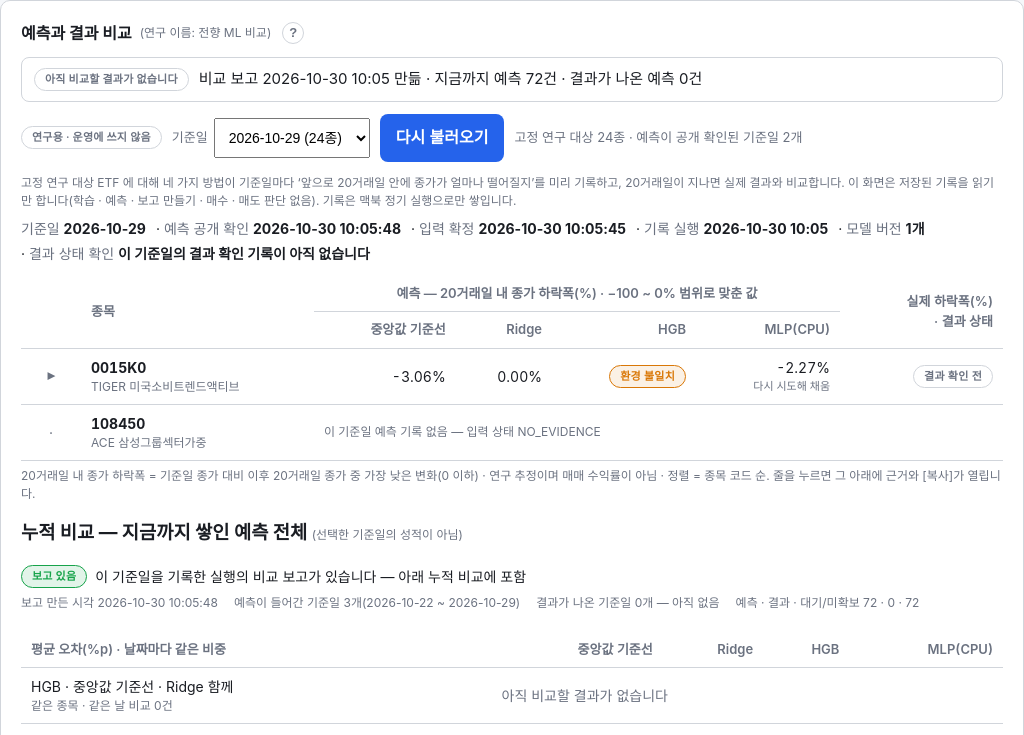
Scenario: ForwardComparisonCard › 기준일을 바꾸면 그 D 로 다시 조회
Select "2026-10-27 (24종)" in the dropdown. click: (292, 138)
box: [214,118,370,158]
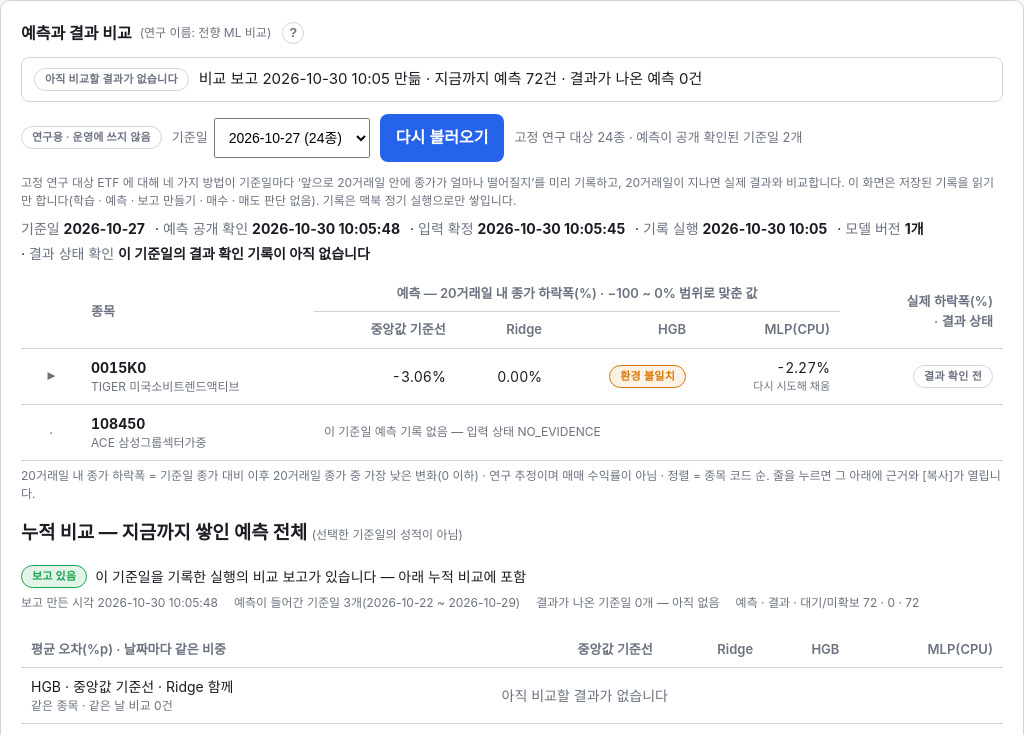
Now the dropdown shows "2026-10-27 (24종)", box [214,118,370,158]
